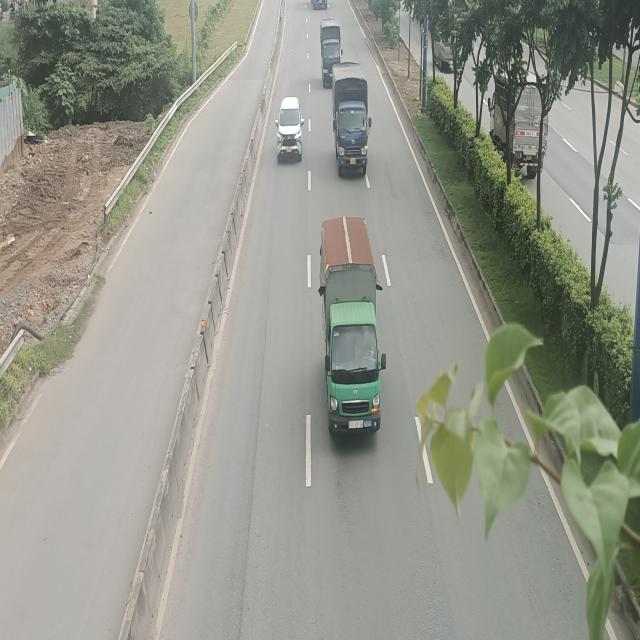car: (276, 98, 303, 166)
truck: (321, 217, 388, 441), (333, 59, 372, 175), (320, 20, 342, 88)
